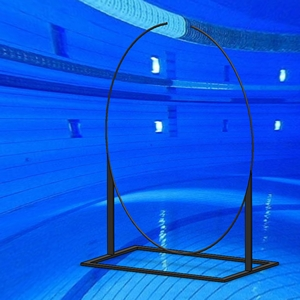circle: (79, 22, 281, 285)
